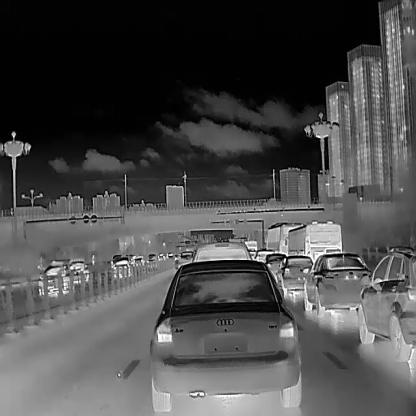car: (148, 258, 301, 412), (358, 245, 416, 361), (303, 252, 371, 315), (285, 219, 343, 257), (275, 254, 314, 296), (263, 220, 304, 254), (36, 261, 73, 295), (110, 258, 134, 278), (69, 259, 88, 282), (130, 254, 143, 268)
sign: (89, 214, 99, 226), (82, 215, 89, 226), (71, 216, 77, 226)
